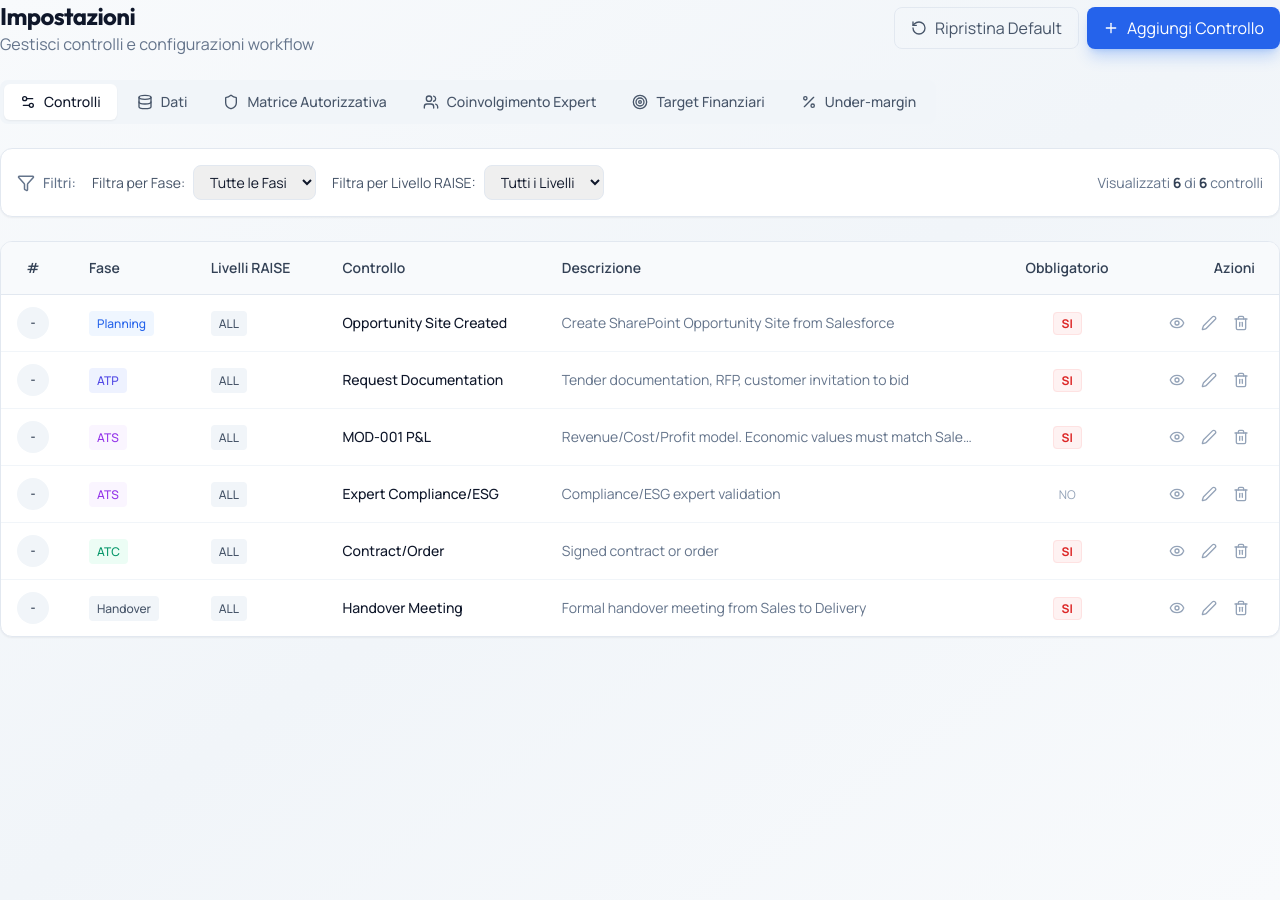
Test: Settings › Modal Interaction › should show form fields in modal
Step 1. Click the button "Aggiungi Controllo" → (1183,28), box left=1087, top=7, right=1279, bottom=49
(page scrolled)
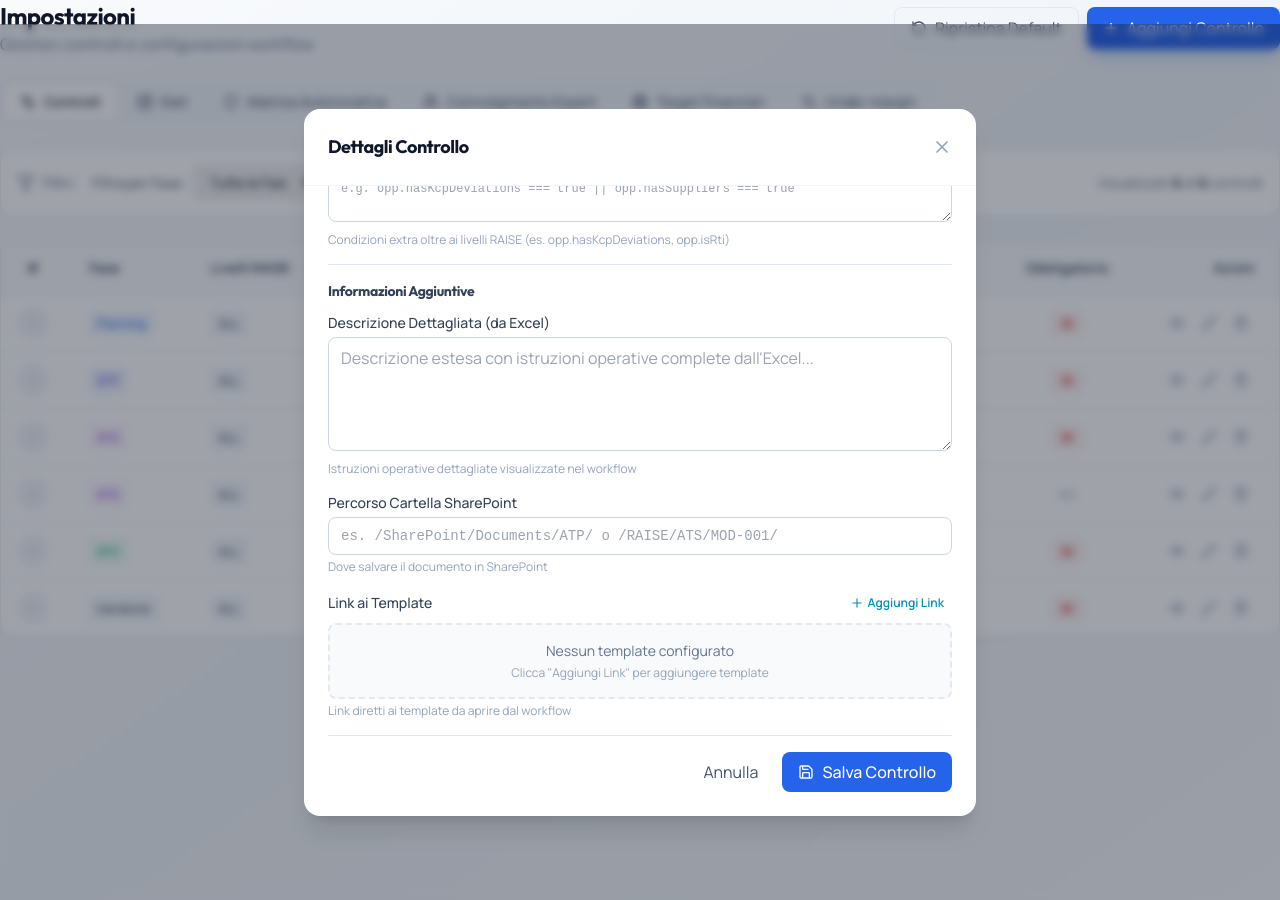
Expected: the heading "Dettagli Controllo" is shown, left=328, top=132, right=469, bottom=160
Expected: the button "Salva Controllo" is shown, left=782, top=752, right=952, bottom=792
